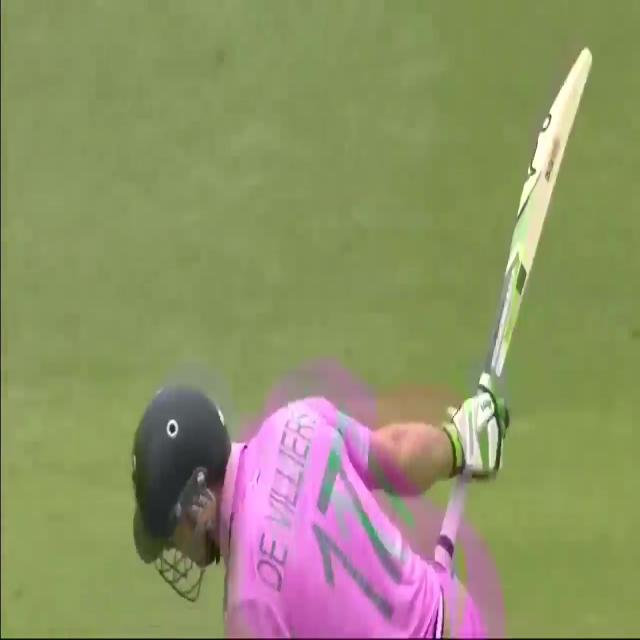Ball: (116, 119, 517, 637)
